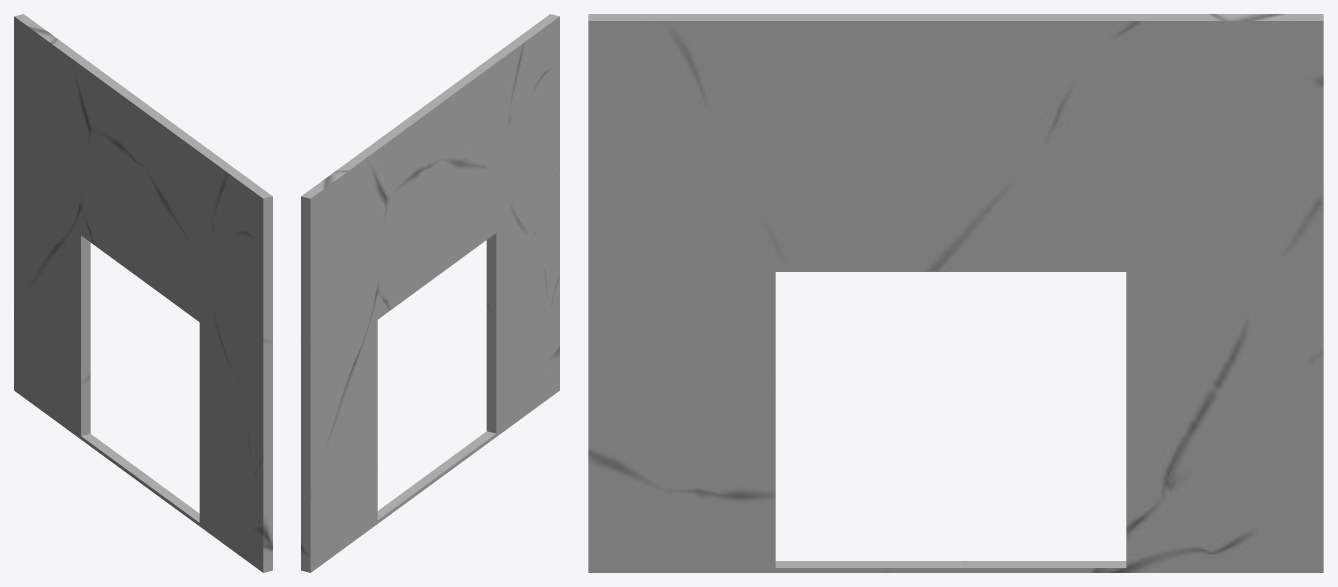
File: duvar3.fbx
The picture shows the model from 3 angles, left to right: view 1: azimuth 30°, elevation 25°; view 2: azimuth 150°, elevation 25°; view 3: azimuth 270°, elevation 25°; orthographic projection. The views are drawn at different scales.
Visible parts, largest first — view 1: Cube_8.004; view 2: Cube_8.004; view 3: Cube_8.004.
Boxes of the visible parts, left/top/right/bottom form: Cube_8.004: left=14, top=14, right=272, bottom=572; Cube_8.004: left=301, top=14, right=559, bottom=572; Cube_8.004: left=588, top=14, right=1323, bottom=572.
Bounding box in the file's own units: 11.88 × 442 × 534.
